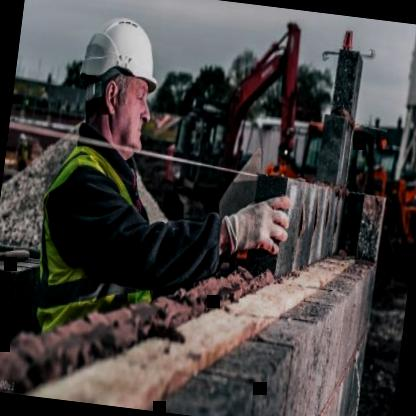helmet: (72, 0, 174, 156)
